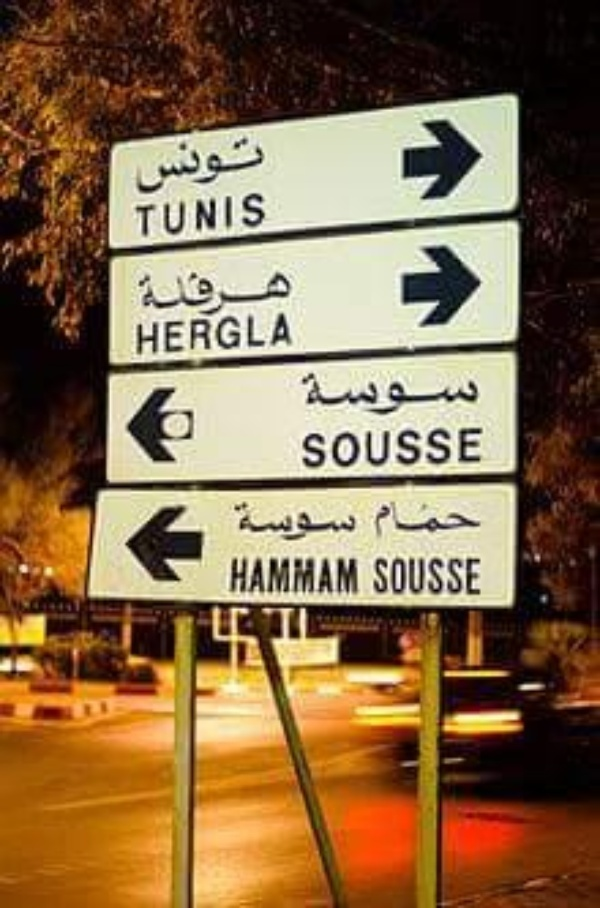text: (145, 129, 160, 197), (161, 129, 176, 197), (177, 129, 192, 197), (193, 129, 208, 197), (209, 129, 224, 197), (225, 129, 240, 197), (241, 129, 256, 197), (257, 129, 271, 197), (131, 129, 144, 197), (145, 265, 160, 320), (161, 265, 176, 320), (177, 265, 192, 320), (193, 265, 208, 320), (209, 265, 224, 320), (225, 265, 240, 320), (241, 265, 256, 320), (257, 265, 272, 320), (273, 265, 288, 320), (145, 189, 160, 240), (161, 189, 176, 240), (177, 189, 192, 240), (193, 189, 208, 240), (209, 189, 224, 240), (225, 189, 240, 240), (241, 189, 256, 240), (145, 309, 160, 358), (161, 309, 176, 358), (177, 309, 192, 358), (193, 309, 208, 358), (209, 309, 224, 358), (225, 309, 240, 358), (241, 309, 256, 358), (257, 309, 272, 358), (273, 309, 288, 358), (305, 369, 320, 415), (321, 369, 336, 415), (337, 369, 352, 415), (353, 369, 368, 415), (369, 369, 384, 415), (385, 369, 400, 415), (401, 369, 416, 415), (417, 369, 432, 415), (433, 369, 448, 415), (449, 369, 464, 415), (131, 189, 144, 240), (385, 554, 400, 598), (401, 554, 416, 598), (417, 554, 432, 598), (433, 554, 448, 598), (449, 554, 464, 598), (465, 554, 480, 598), (305, 426, 320, 469), (321, 426, 336, 469), (337, 426, 352, 469), (353, 426, 368, 469), (369, 426, 384, 469), (385, 426, 400, 469), (401, 426, 416, 469), (417, 426, 432, 469), (433, 426, 448, 469), (449, 426, 464, 469), (465, 426, 480, 469), (385, 497, 400, 540), (401, 497, 416, 540), (417, 497, 432, 540), (433, 497, 448, 540), (449, 497, 464, 540), (465, 497, 480, 540), (241, 554, 256, 595), (257, 554, 272, 595), (273, 554, 288, 595), (289, 554, 304, 595), (305, 554, 320, 595), (321, 554, 336, 595), (337, 554, 352, 595), (465, 369, 478, 415), (371, 554, 384, 598), (241, 502, 256, 540), (257, 502, 272, 540), (273, 502, 288, 540), (289, 502, 304, 540), (305, 502, 320, 540), (321, 502, 336, 540), (337, 502, 352, 540), (257, 189, 268, 240), (134, 265, 144, 320), (134, 309, 144, 358), (374, 497, 384, 540), (230, 554, 240, 595), (230, 502, 240, 540), (289, 265, 295, 320), (353, 554, 361, 595), (353, 502, 361, 540), (289, 309, 295, 358), (301, 369, 304, 415), (301, 426, 304, 469), (481, 554, 483, 598), (481, 426, 483, 469), (481, 497, 483, 540)
